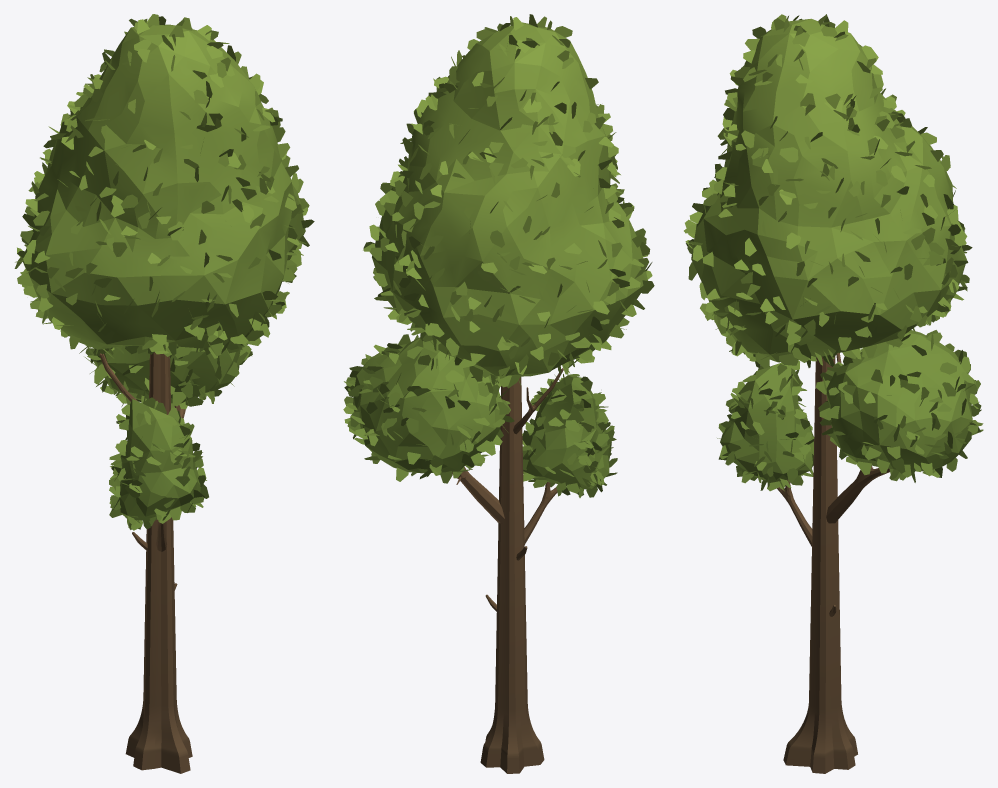
Rendered from Tree_02.fbx.
3 renders of one model, left to right at view 1: azimuth 30°, elevation 25°; view 2: azimuth 150°, elevation 25°; view 3: azimuth 270°, elevation 25°, orthographic. The views are drawn at different scales.
Parts seen in each view (by area): view 1: Tree_02_LOD0; view 2: Tree_02_LOD0; view 3: Tree_02_LOD0.
Part boxes in pixels (<box>): Tree_02_LOD0: <box>14,14,314,773</box>; Tree_02_LOD0: <box>343,14,654,773</box>; Tree_02_LOD0: <box>684,14,983,773</box>.
Size of what is drawn, in the model's own units: 2.84 by 7.41 by 2.72.
